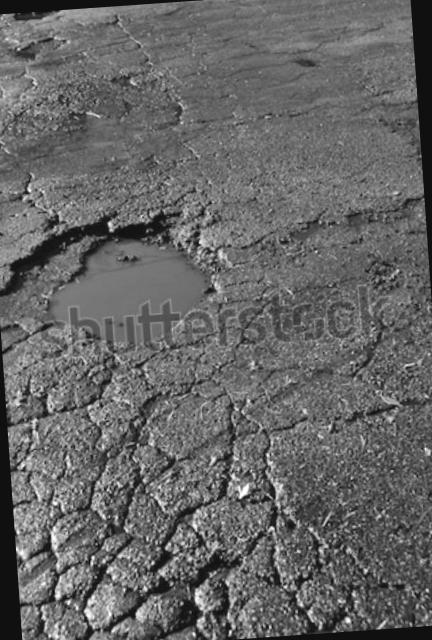Pothole: (0, 189, 264, 380), (0, 9, 75, 70)
